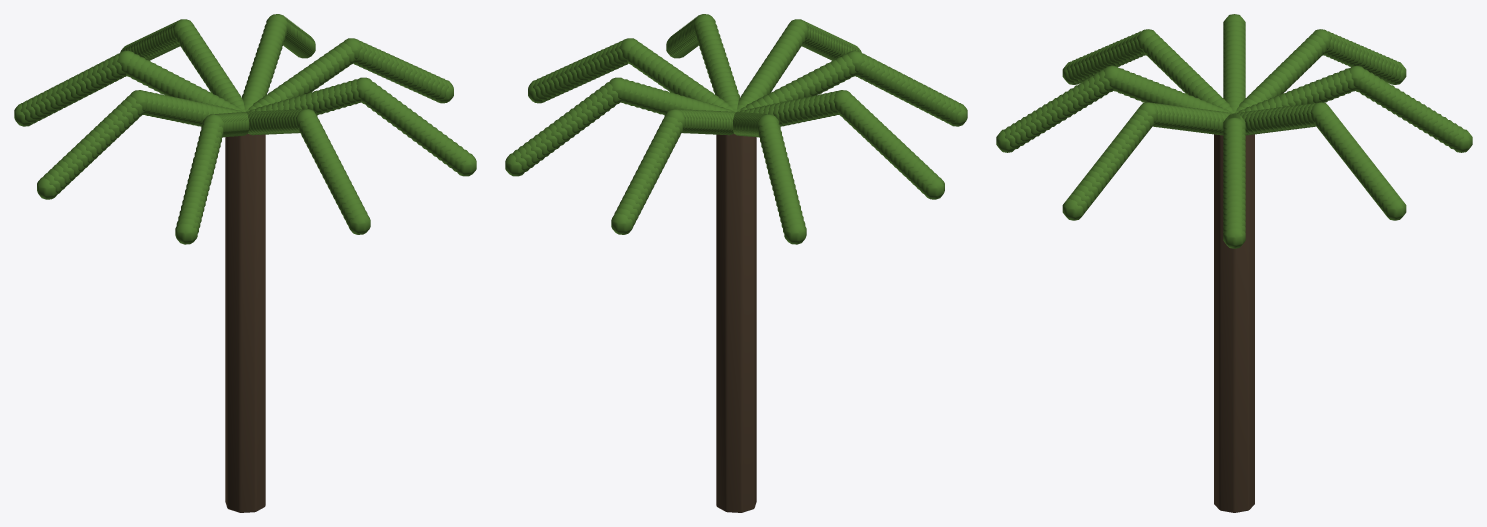
The model's file is samambaia.glb.
3 renders of one model, left to right at view 1: azimuth 30°, elevation 25°; view 2: azimuth 150°, elevation 25°; view 3: azimuth 270°, elevation 25°, orthographic.
Parts seen in each view (by area): view 1: samambaia; view 2: samambaia; view 3: samambaia.
Boxes of the visible parts, bbox=[...] form: samambaia: bbox=[14, 14, 476, 512]; samambaia: bbox=[505, 14, 967, 512]; samambaia: bbox=[996, 14, 1472, 512].
Bounding box in the file's own units: 2.73 × 2.77 × 2.73.
